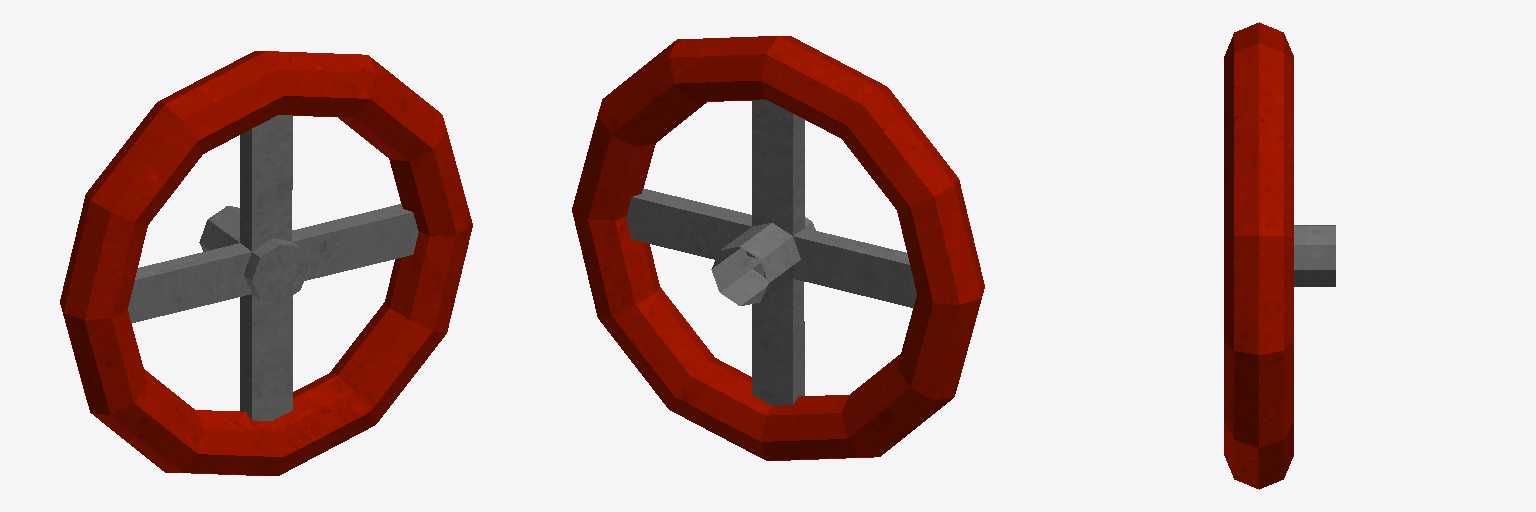
The picture shows the model from 3 angles: view 1: azimuth 30°, elevation 25°; view 2: azimuth 150°, elevation 25°; view 3: azimuth 270°, elevation 25°; orthographic projection.
Visible parts, largest first — view 1: valvewheel; view 2: valvewheel; view 3: valvewheel.
Part boxes in pixels (bbox=[...]): valvewheel: bbox=[60, 51, 472, 475]; valvewheel: bbox=[572, 36, 984, 460]; valvewheel: bbox=[1224, 22, 1335, 489].
Size of the model in its own units: 0.6 by 0.6 by 0.1434.
1 materials, 1 textured.